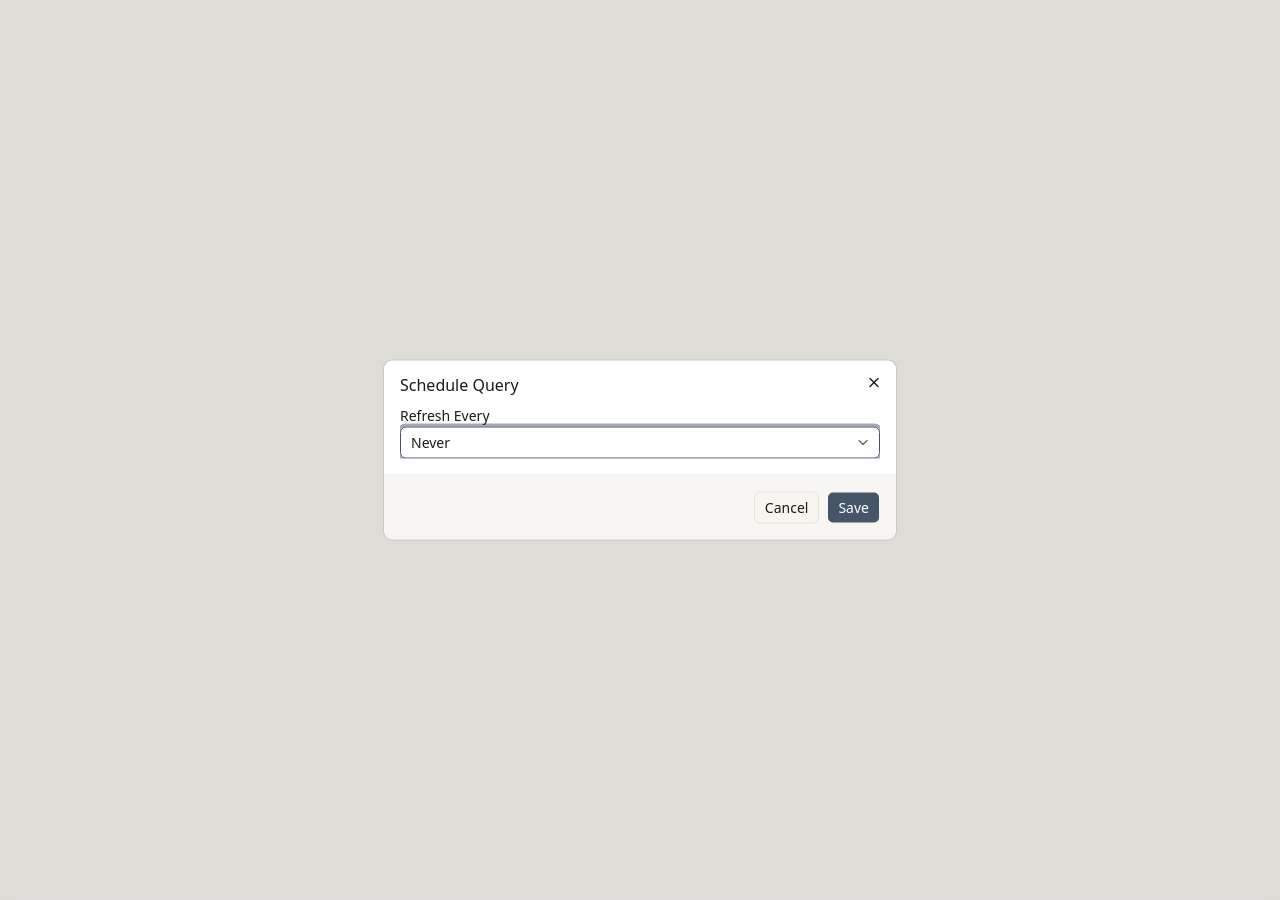
Test: ScheduleDialog › associates every visible schedule control with its label
Click the dropdown at x=431, y=442, box left=400, top=426, right=880, bottom=458
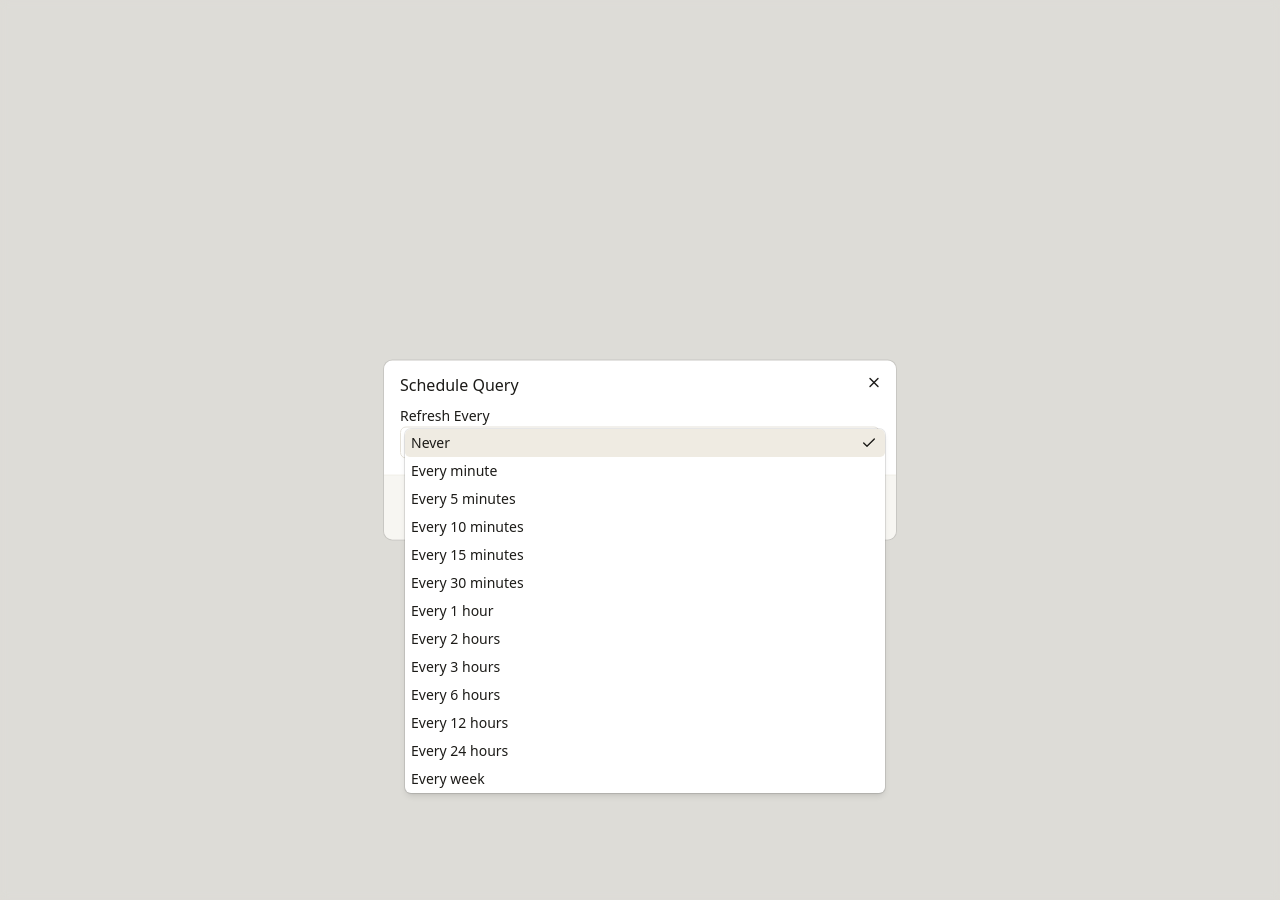
Click the option "Every week" at x=448, y=778, box left=411, top=768, right=485, bottom=788
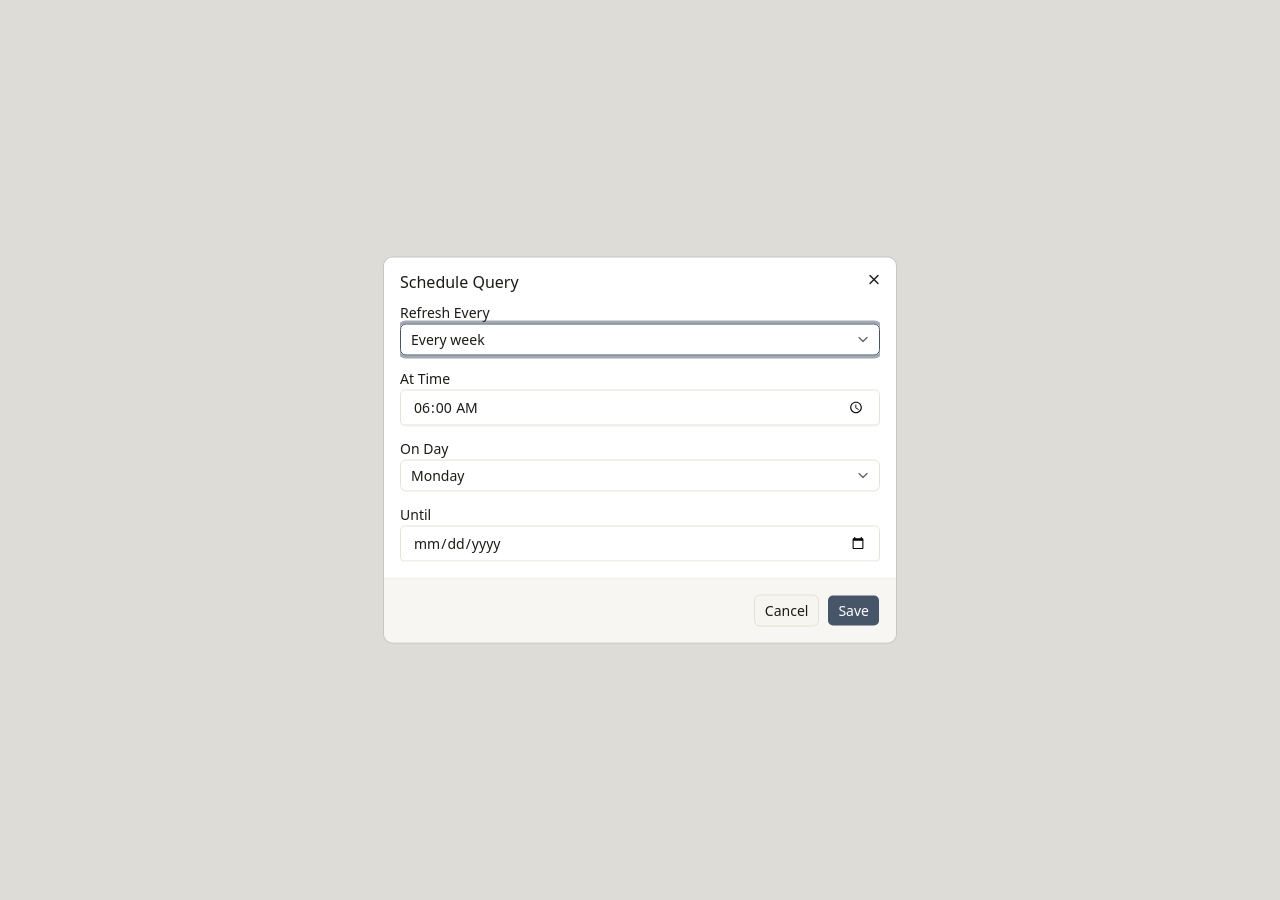
Check: the time field labelled "At Time" is shown, box left=400, top=390, right=880, bottom=426
Check: the dropdown named "on day" is shown, box left=400, top=460, right=880, bottom=492
Check: the date field labelled "Until" is shown, box left=400, top=526, right=880, bottom=562
